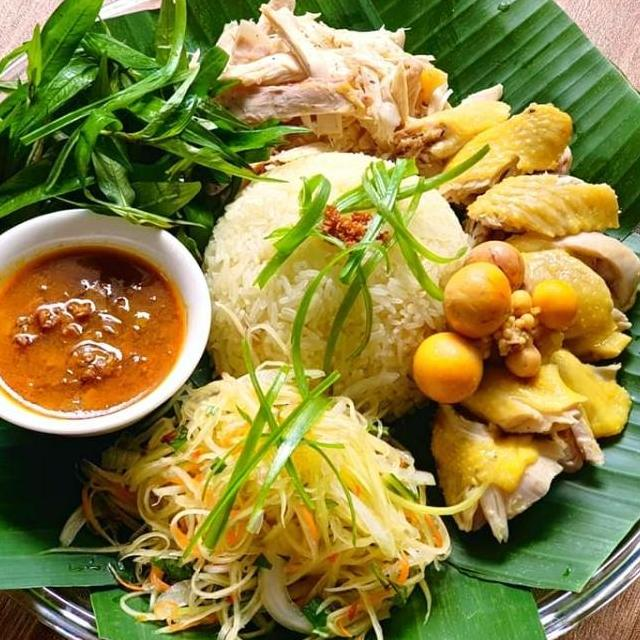com: (192, 148, 482, 433)
com ga: (0, 34, 640, 640)
rau ram: (0, 0, 317, 297)
thit ga: (197, 0, 459, 181), (423, 325, 635, 547), (385, 79, 577, 210), (477, 220, 640, 338), (451, 169, 624, 245)
trung: (436, 257, 516, 345), (407, 325, 490, 409), (459, 235, 530, 304), (526, 276, 581, 336)
